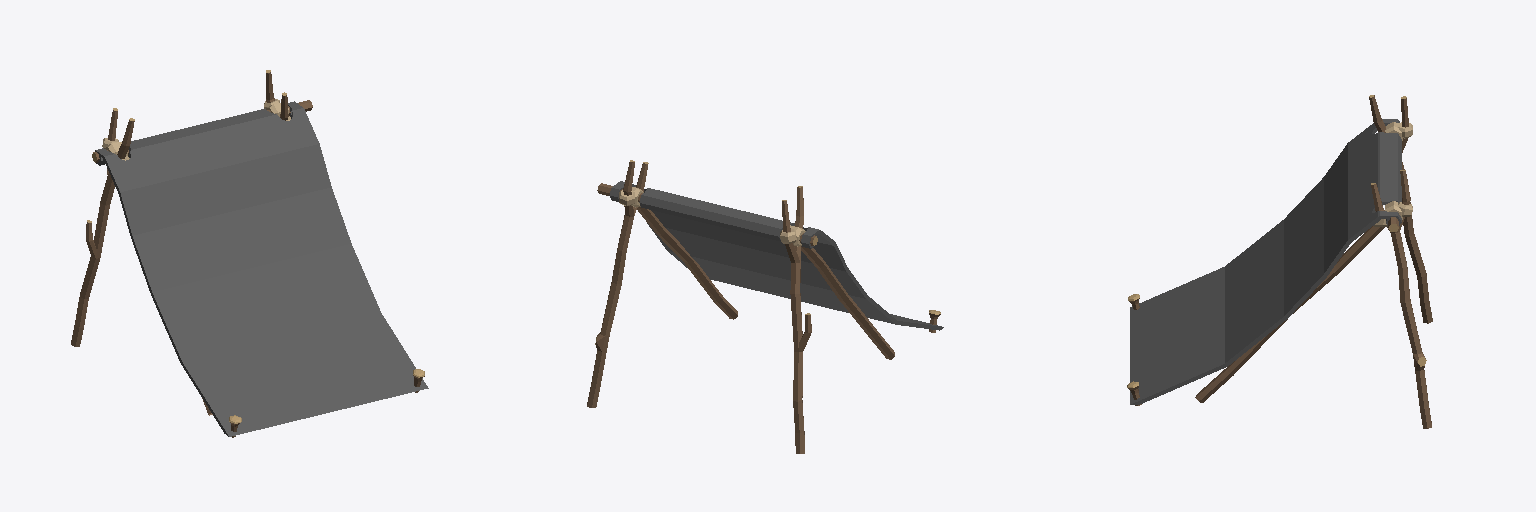
The model's file is Hilly_Prop_Camp_Lean_To.obj.
3 views of the same model, side by side, from view 1: azimuth 30°, elevation 25°; view 2: azimuth 150°, elevation 25°; view 3: azimuth 270°, elevation 25° (orthographic).
Parts seen in each view (by area): view 1: object11, object12; view 2: object11, object12, object8, object10, object5; view 3: object11, object8, object10, object12.
Boxes of the visible parts, x1=… form: object11: x1=95, y1=101, x2=428, y2=436; object12: x1=71, y1=108, x2=134, y2=346; object11: x1=609, y1=181, x2=943, y2=330; object12: x1=782, y1=186, x2=811, y2=453; object8: x1=587, y1=160, x2=648, y2=407; object10: x1=637, y1=207, x2=737, y2=319; object5: x1=801, y1=246, x2=894, y2=359; object11: x1=1130, y1=119, x2=1401, y2=404; object8: x1=1371, y1=170, x2=1431, y2=428; object10: x1=1195, y1=226, x2=1384, y2=402; object12: x1=1369, y1=95, x2=1432, y2=323.
Bounding box in the file's own units: 1.37 × 1.45 × 1.64.